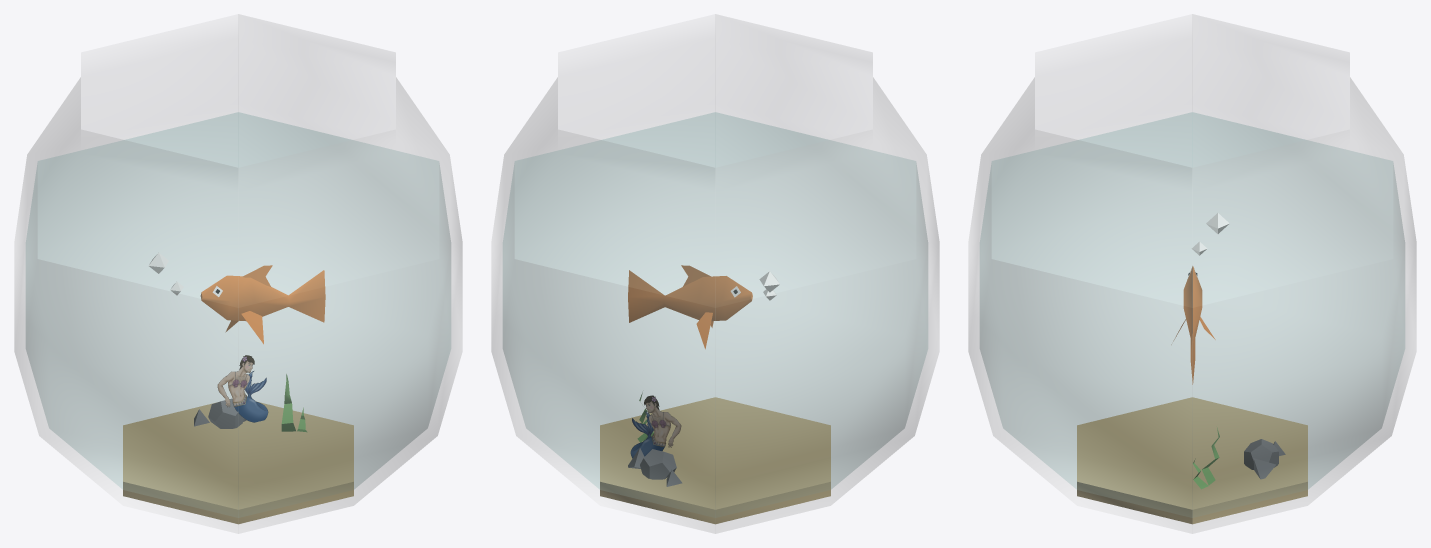
Rendered from fish.glb.
The picture shows the model from 3 angles, left to right: view 1: azimuth 30°, elevation 25°; view 2: azimuth 150°, elevation 25°; view 3: azimuth 270°, elevation 25°; orthographic projection.
Parts seen in each view (by area): view 1: Bowl, Water, Sand, Main, Merman, Platonic_1; view 2: Bowl, Water, Sand, Main, Merman, Platonic_1; view 3: Bowl, Water, Sand, Main, Platonic_1.
Part boxes in pixels (left/top/right/bottom): Bowl: left=14, top=14, right=462, bottom=533; Water: left=26, top=112, right=450, bottom=517; Sand: left=123, top=402, right=353, bottom=524; Main: left=200, top=270, right=325, bottom=322; Merman: left=217, top=355, right=268, bottom=422; Platonic_1: left=208, top=398, right=243, bottom=428; Bowl: left=491, top=14, right=939, bottom=533; Water: left=503, top=112, right=927, bottom=517; Sand: left=600, top=397, right=830, bottom=524; Main: left=628, top=270, right=752, bottom=322; Merman: left=630, top=395, right=681, bottom=458; Platonic_1: left=640, top=449, right=676, bottom=479; Bowl: left=968, top=14, right=1416, bottom=533; Water: left=980, top=112, right=1404, bottom=517; Sand: left=1077, top=397, right=1307, bottom=524; Main: left=1183, top=266, right=1202, bottom=384; Platonic_1: left=1244, top=439, right=1278, bottom=469.
Size of the model in its own units: 0.4203 by 0.3464 by 0.364.
Materials: 12 (1 with a texture image).
